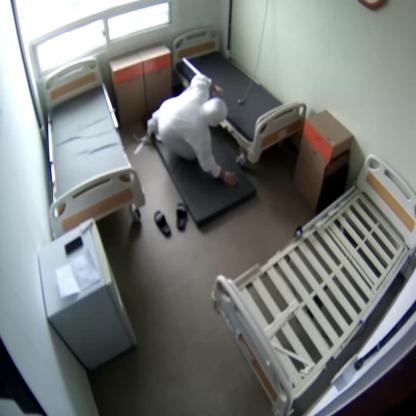Person: (146, 73, 238, 184)
